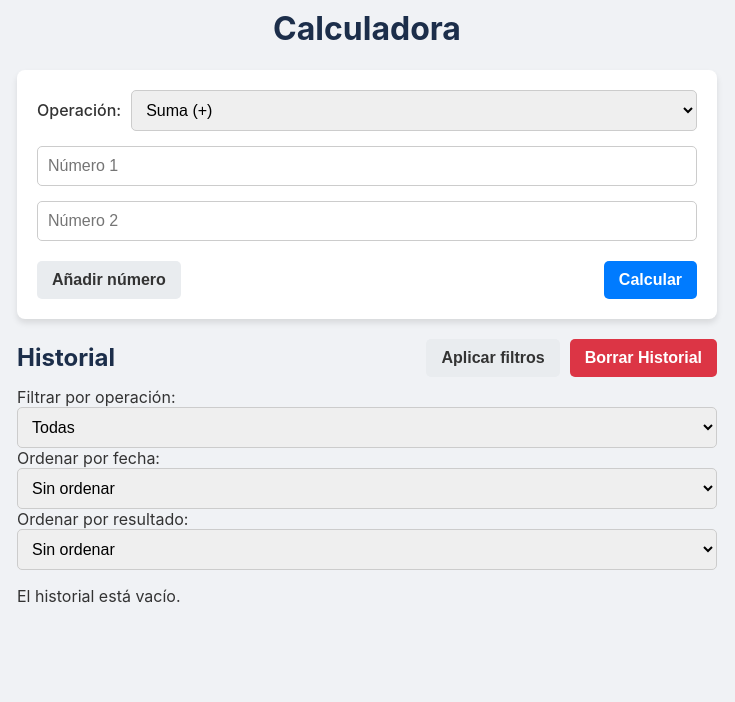
muestra un mensaje de error cuando la API devuelve un error
Expected: the button "Calcular" is shown, [604,261,697,299]
Type "10" into the number field with placeholder "Número 1". click: (367, 166)
box: [37,146,697,186]
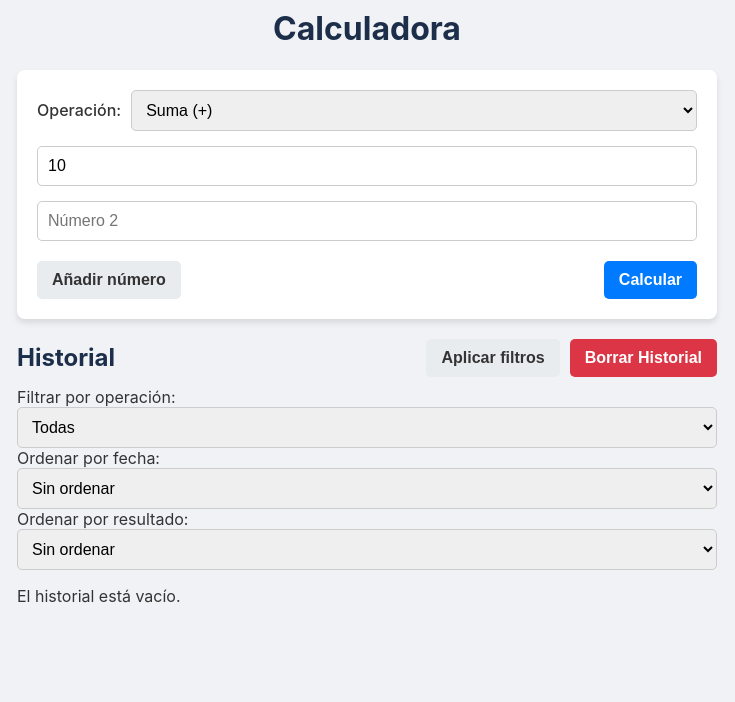
Type "0" into the number field with placeholder "Número 2". click: (367, 221)
box: [37,201,697,241]
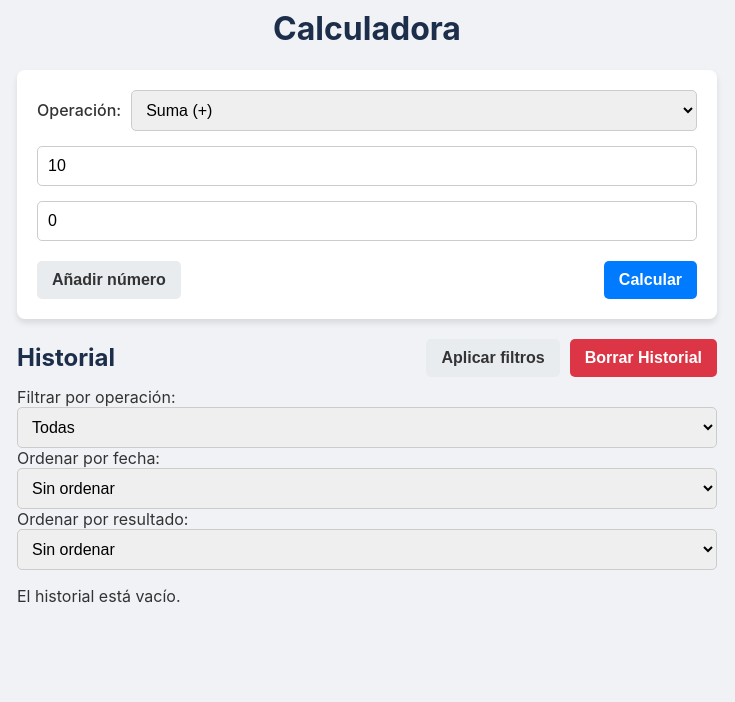
Click the button "Calcular". click: (650, 280)
box: [604,261,697,299]
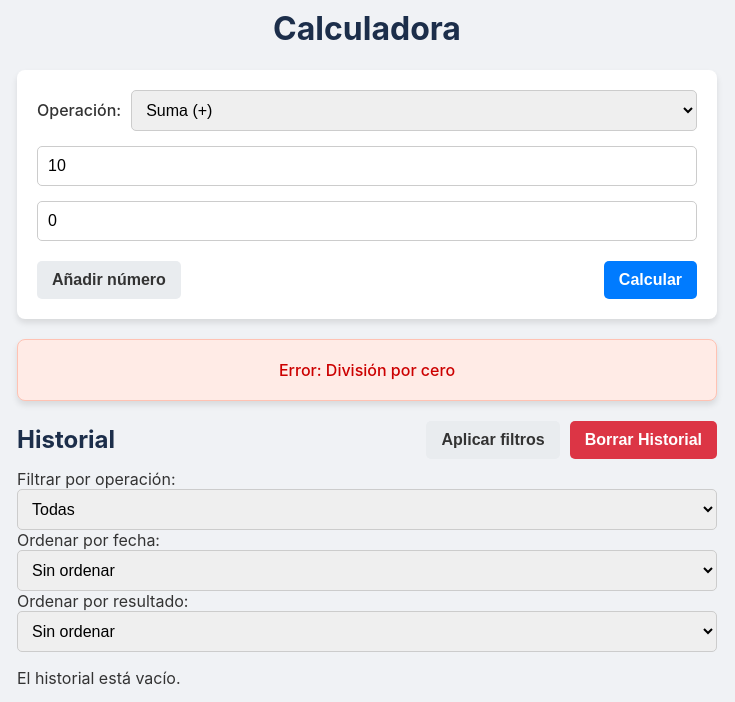
Now the text "Error: División por cero" is shown, box [279,360,455,380]
